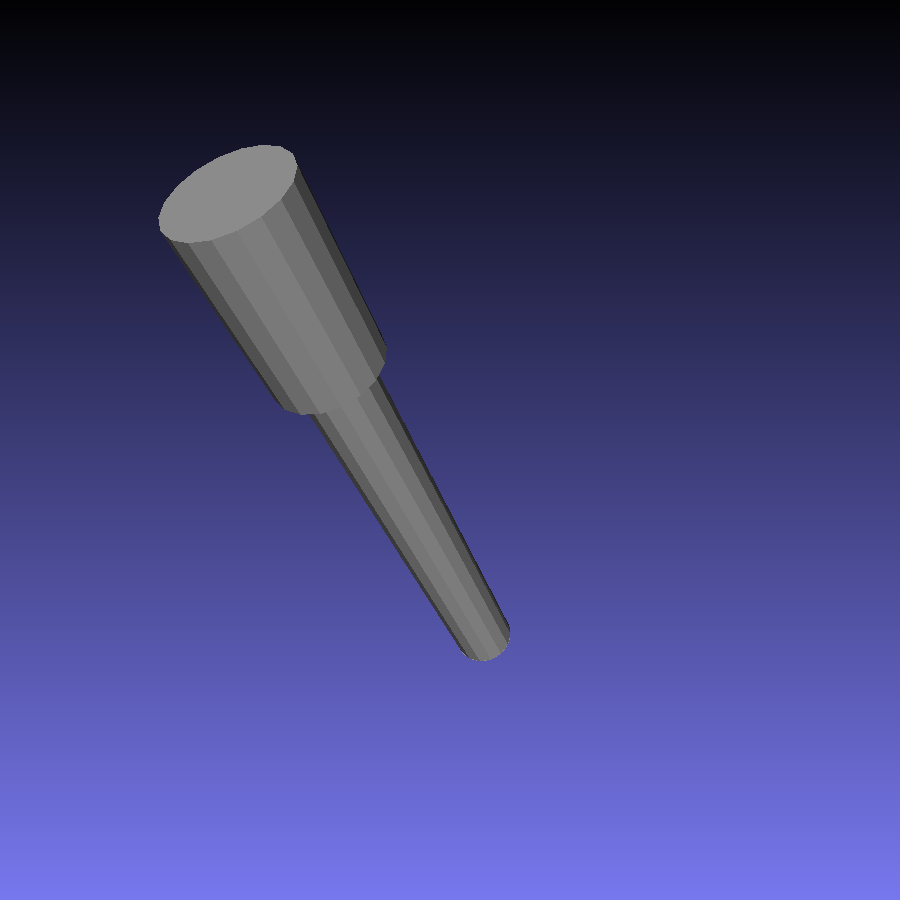cargo_g: (157, 144, 514, 662)
